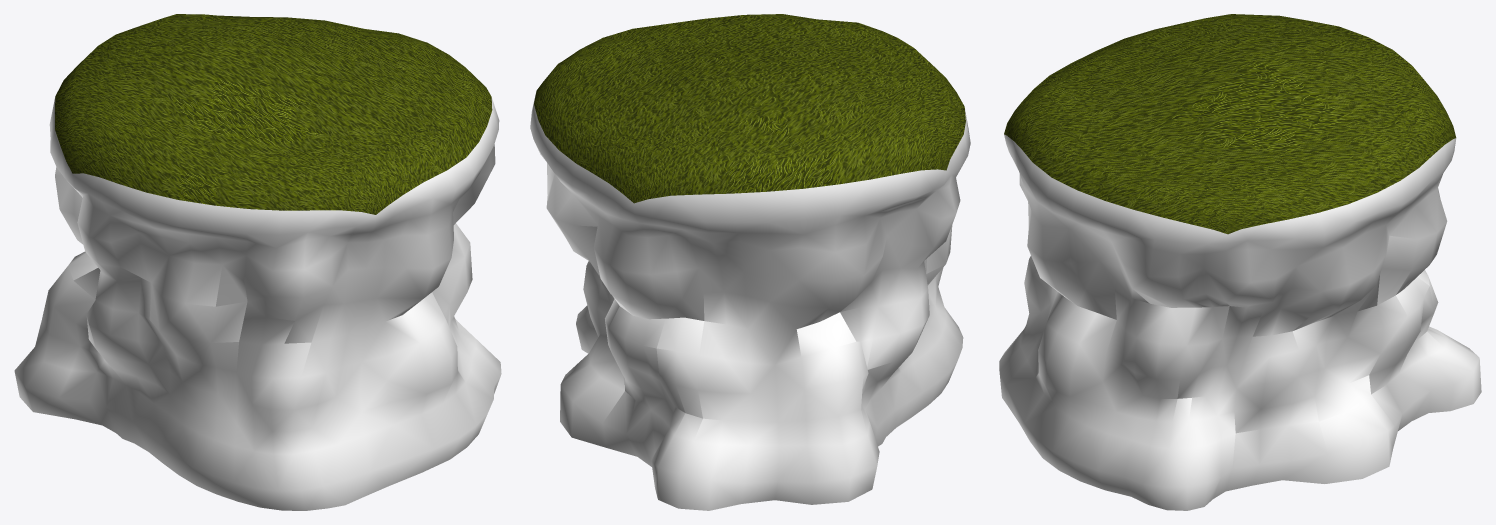
The model's file is PlatformGrass3_LOD0.fbx.
The picture shows the model from 3 angles, left to right: view 1: azimuth 30°, elevation 25°; view 2: azimuth 150°, elevation 25°; view 3: azimuth 270°, elevation 25°; orthographic projection.
Visible parts, largest first — view 1: Mesh; view 2: Mesh; view 3: Mesh.
Part boxes in pixels (left/top/right/bottom): Mesh: left=14, top=14, right=501, bottom=510; Mesh: left=530, top=14, right=970, bottom=510; Mesh: left=999, top=14, right=1481, bottom=510.
Bounding box in the file's own units: 1491 × 1249 × 1582.
